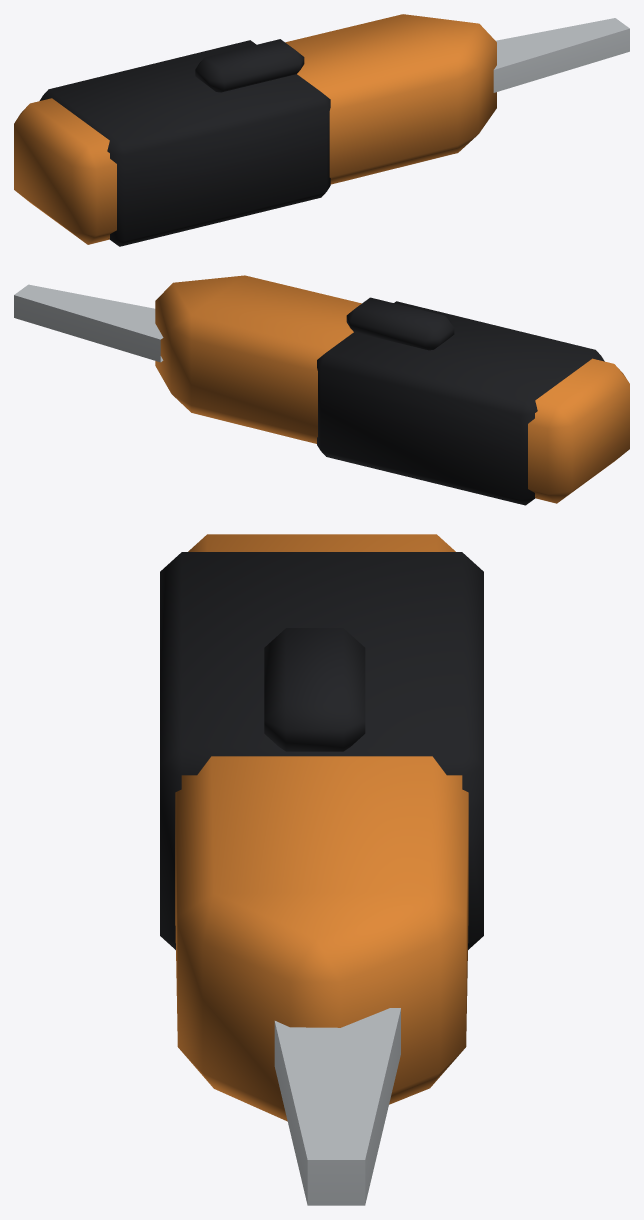
File: SM_UtilityKnife_01.glb
3 views of the same model, one above another, from view 1: azimuth 30°, elevation 25°; view 2: azimuth 150°, elevation 25°; view 3: azimuth 270°, elevation 25° (orthographic). The views are drawn at different scales.
Parts seen in each view (by area): view 1: SM_UtilityKnife_01; view 2: SM_UtilityKnife_01; view 3: SM_UtilityKnife_01.
Part boxes in pixels (left/top/right/bottom): SM_UtilityKnife_01: left=14, top=14, right=629, bottom=246; SM_UtilityKnife_01: left=14, top=275, right=629, bottom=505; SM_UtilityKnife_01: left=160, top=534, right=483, bottom=1205.
Bounding box in the file's own units: 0.185 × 0.039 × 0.045.
Materials: 1 (1 with a texture image).
